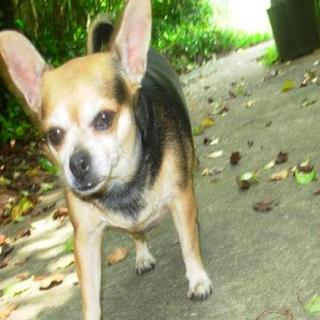dog: (0, 15, 161, 204)
nose: (64, 149, 92, 180)
